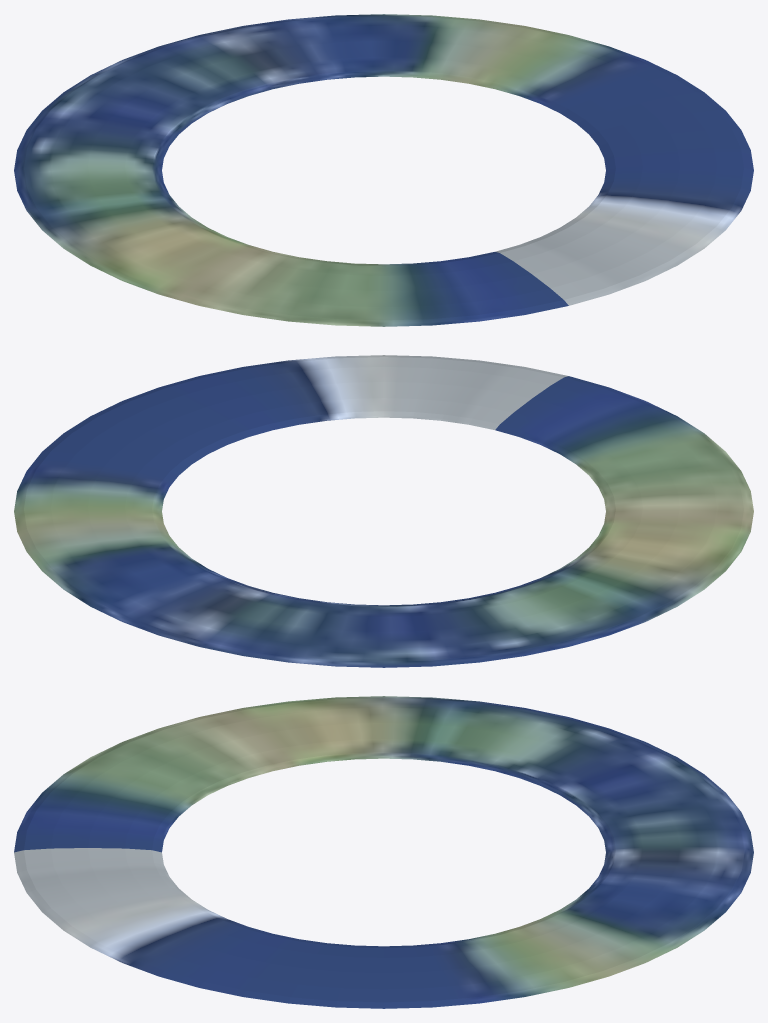
File: saturns_rings.obj
The picture shows the model from 3 angles, top to bottom: view 1: azimuth 30°, elevation 25°; view 2: azimuth 150°, elevation 25°; view 3: azimuth 270°, elevation 25°; orthographic projection.
Parts seen in each view (by area): view 1: Torus; view 2: Torus; view 3: Torus.
Boxes of the visible parts, bbox=[...] form: Torus: bbox=[14, 14, 753, 326]; Torus: bbox=[14, 355, 753, 667]; Torus: bbox=[14, 696, 753, 1008].
Size of the model in its own units: 3.71 by 0.0504 by 3.71.
